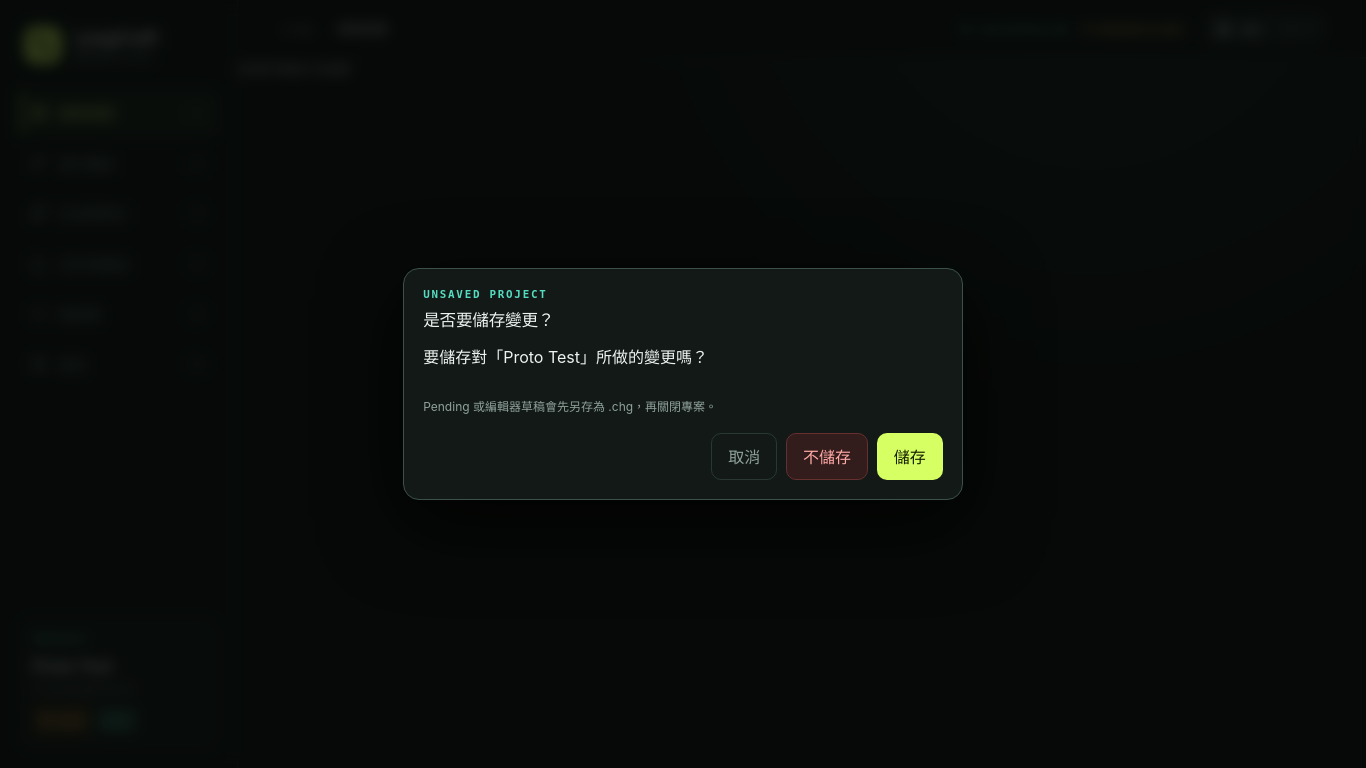
it: Shell desktop commands › keeps the dirty window open when saving the working copy fails
Click the button "儲存" at (910, 456), box x1=877 y1=433 x2=943 y2=480
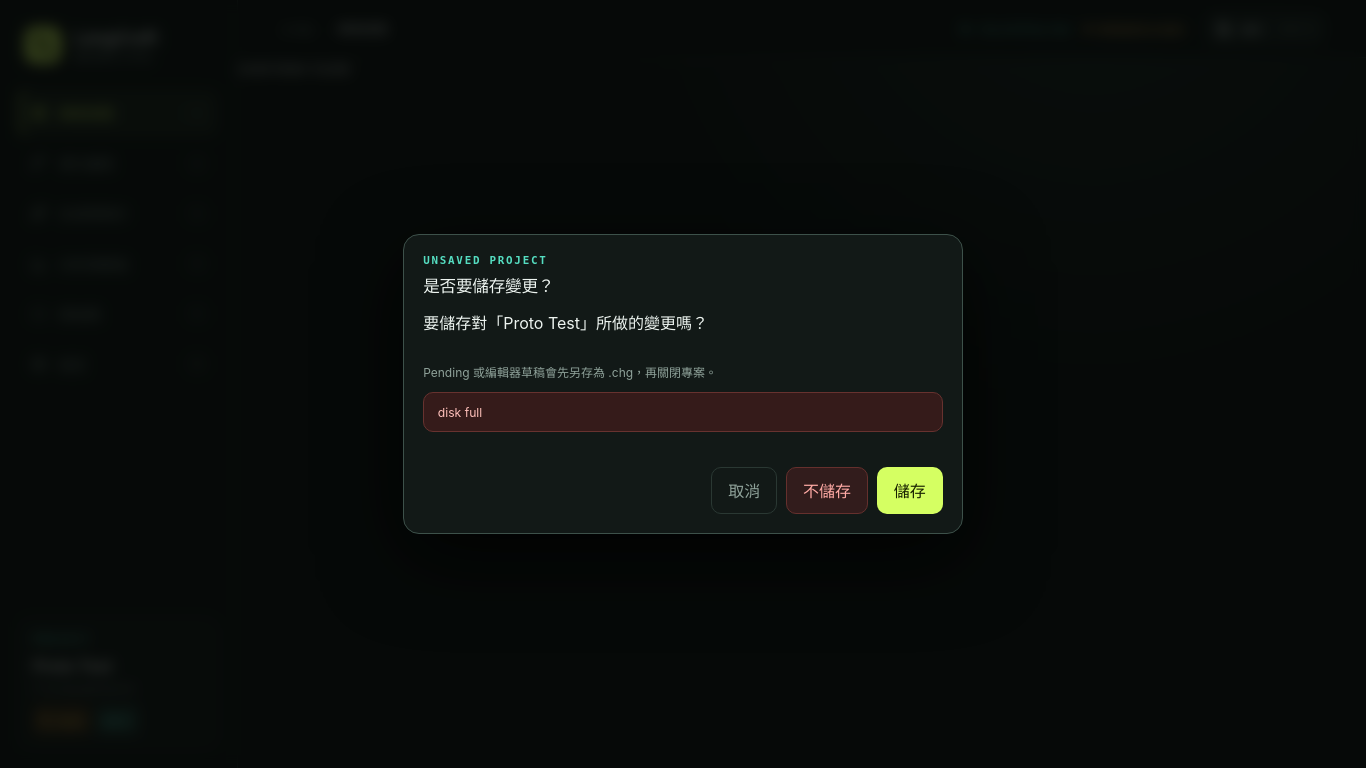
Check: the heading "是否要儲存變更？" is shown, box x1=423 y1=276 x2=554 y2=296
Check: the message reads "disk full", box x1=438 y1=404 x2=482 y2=420
